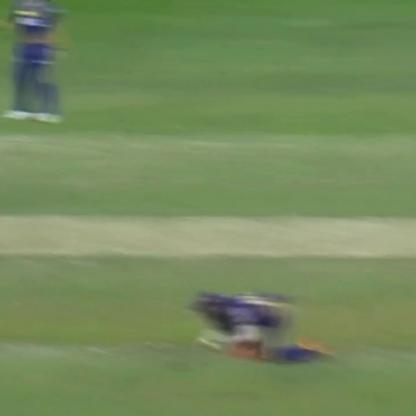ball: (190, 331, 213, 350)
